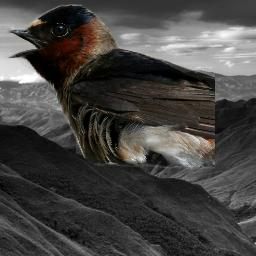Swallow: (5, 4, 215, 169)
